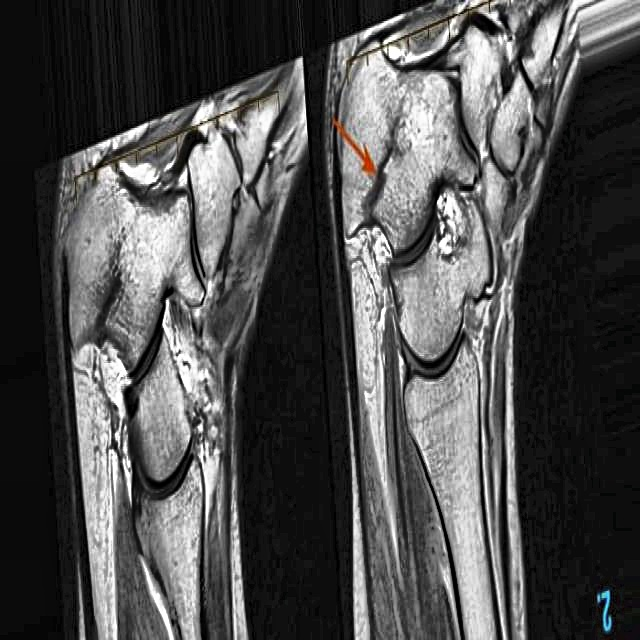Oblique Displaced: (354, 104, 413, 232)
